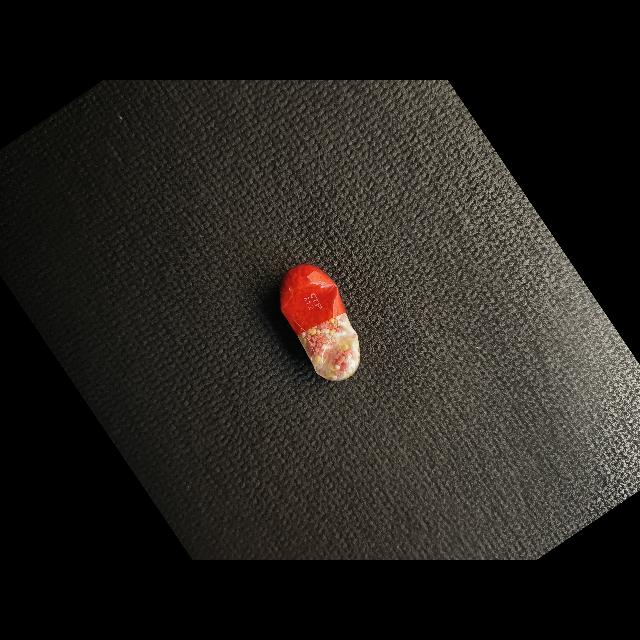Defective Capsule: (280, 264, 360, 381)
